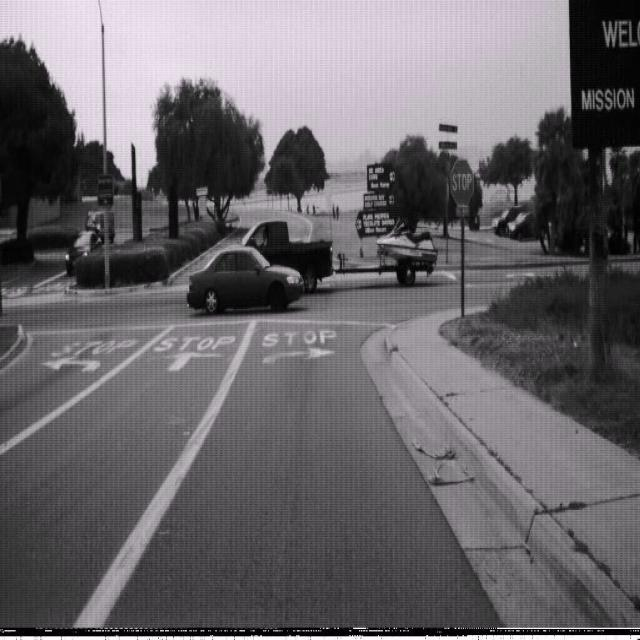stop: (450, 157, 474, 207)
